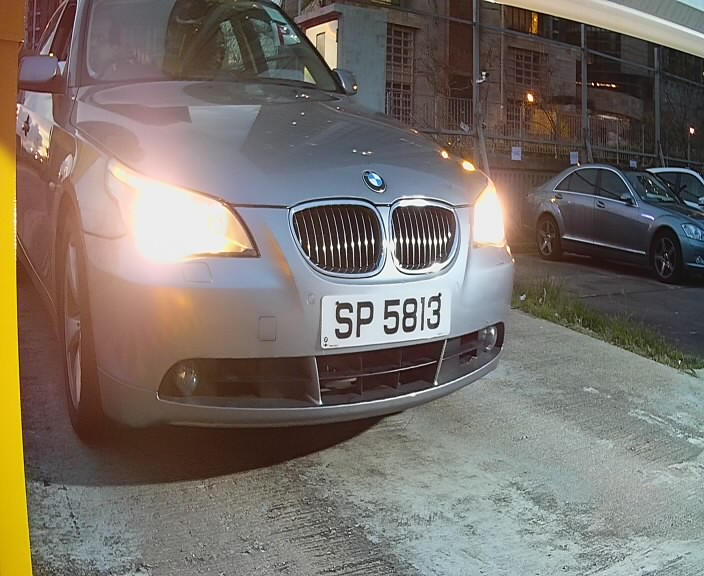Car: (16, 2, 545, 454)
License Plate: (312, 282, 475, 362)
